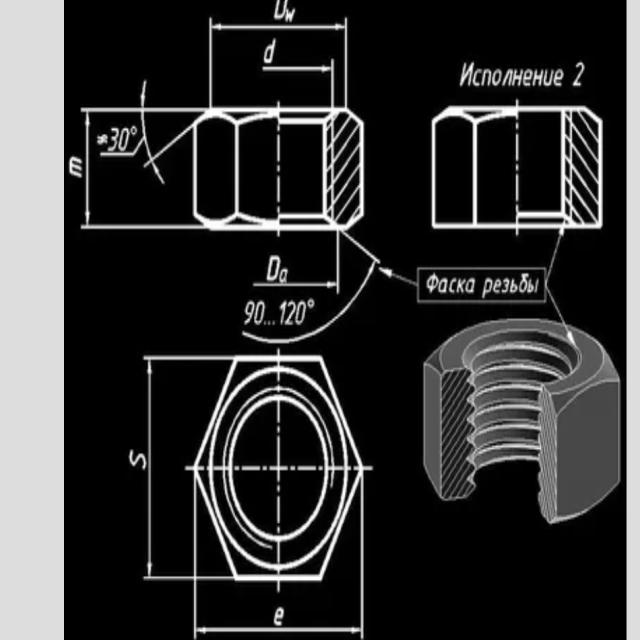marking_line: (142, 362, 154, 575), (197, 621, 360, 636), (80, 116, 94, 228), (214, 21, 344, 31), (253, 279, 334, 294), (262, 62, 330, 74)
numeric: (238, 295, 269, 331), (277, 296, 307, 329), (109, 124, 135, 153), (571, 62, 592, 92)
